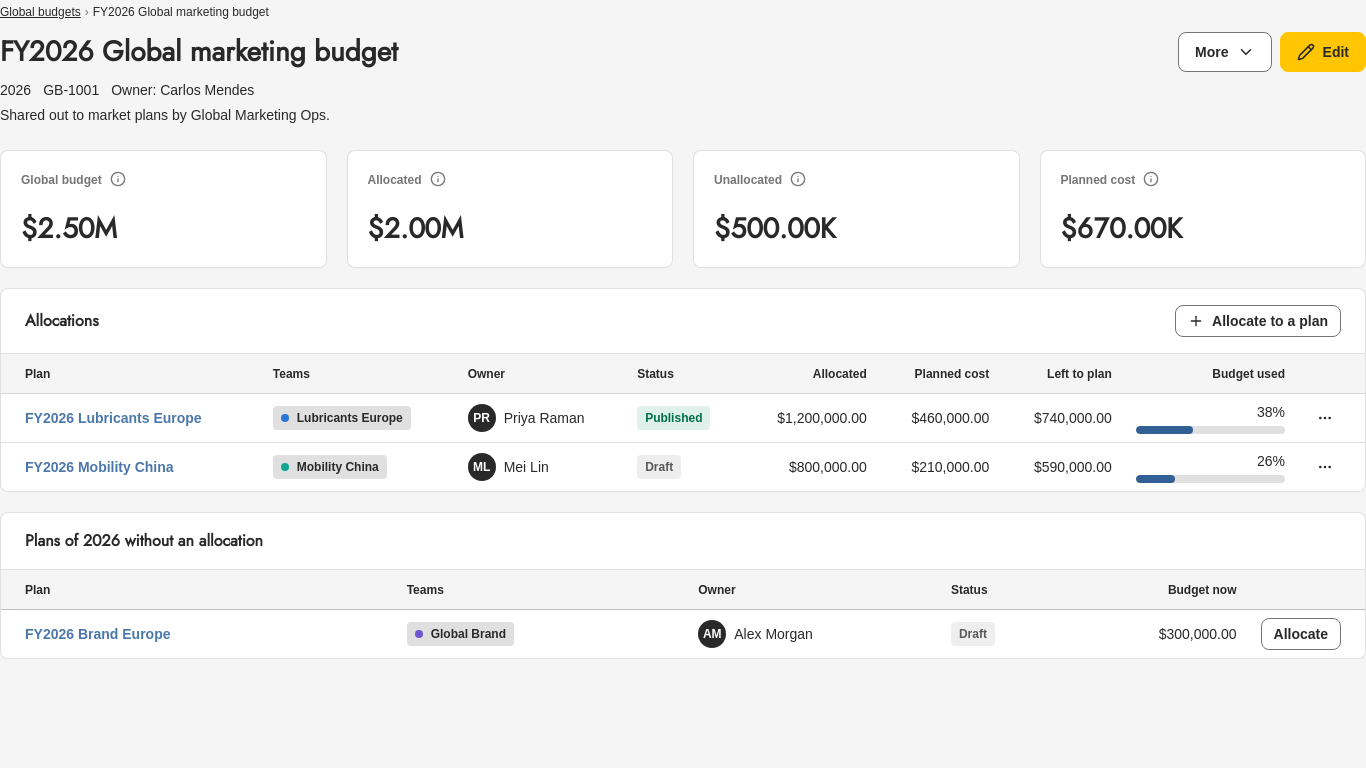
Scenario: GlobalBudgetPage (014 US6, FR-032 – FR-035) › says why a global budget with allocations can't be deleted (FR-035)
Check: the table named "Allocations" is shown, box x1=1 y1=353 x2=1365 y2=491
Click the button "More" at (1225, 52), box x1=1178 y1=32 x2=1272 y2=72
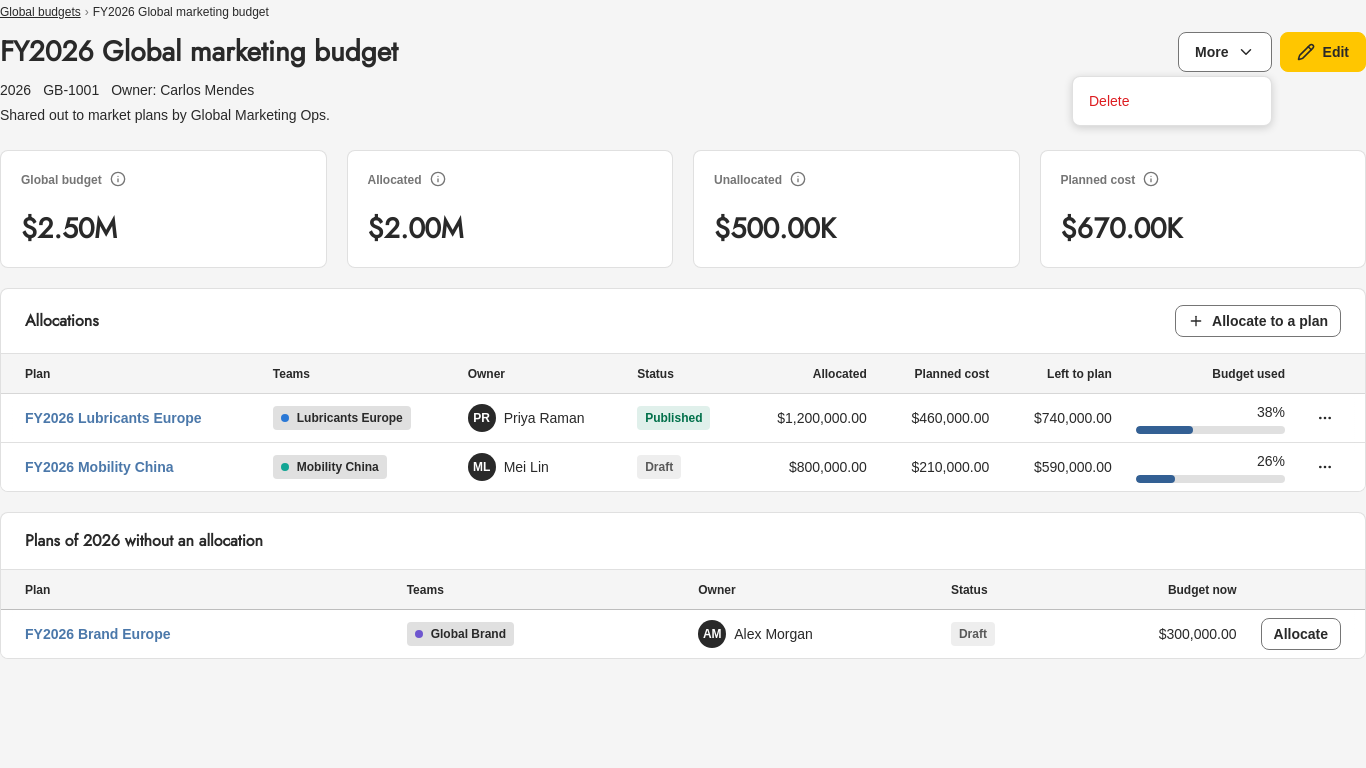
Click the menu item "Delete" at (1109, 101), box x1=1089 y1=93 x2=1130 y2=109
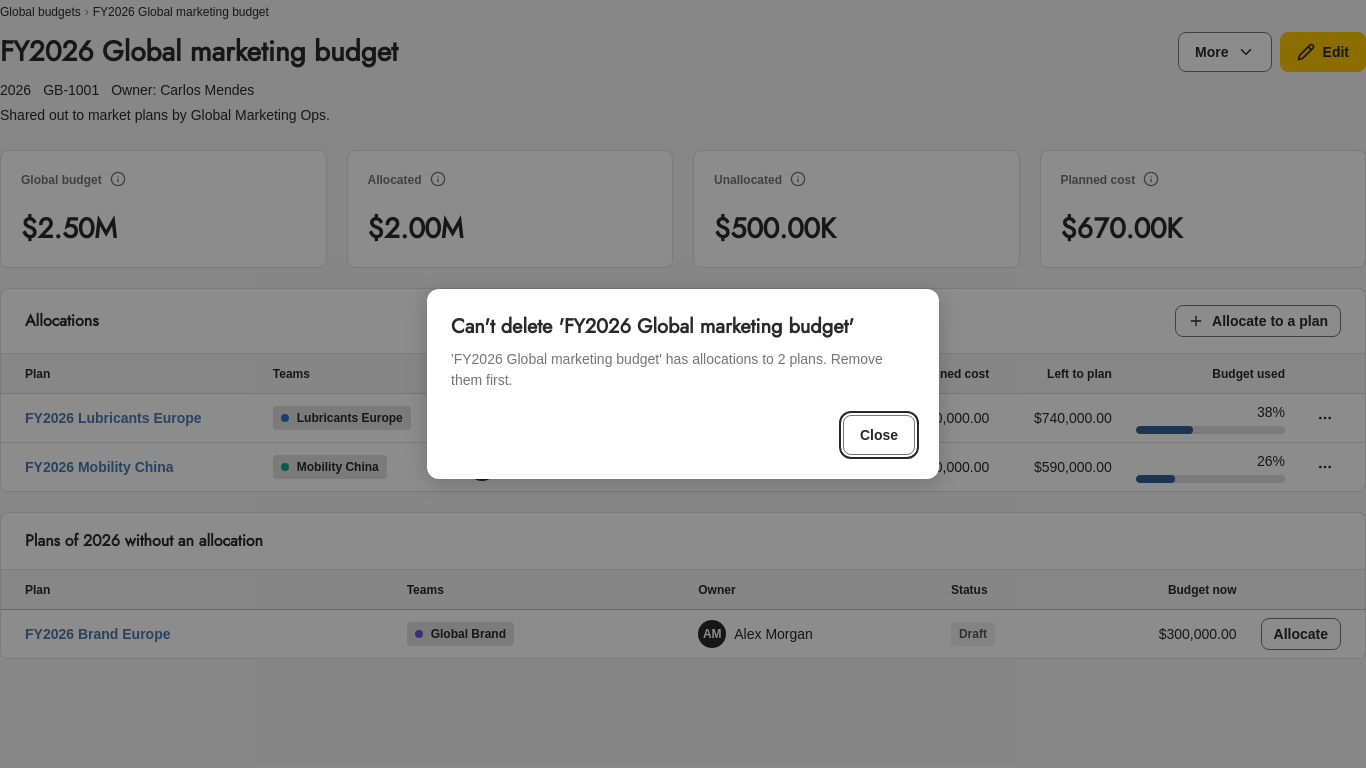
Check: the dialog "Can't delete 'FY2026 Global marketing budget'" shows "'FY2026 Global marketing budget' has allocations to 2 plans. Remove them first.", box x1=451 y1=351 x2=883 y2=388
Check: the buttons read "Close", in this order, box x1=843 y1=415 x2=915 y2=455
